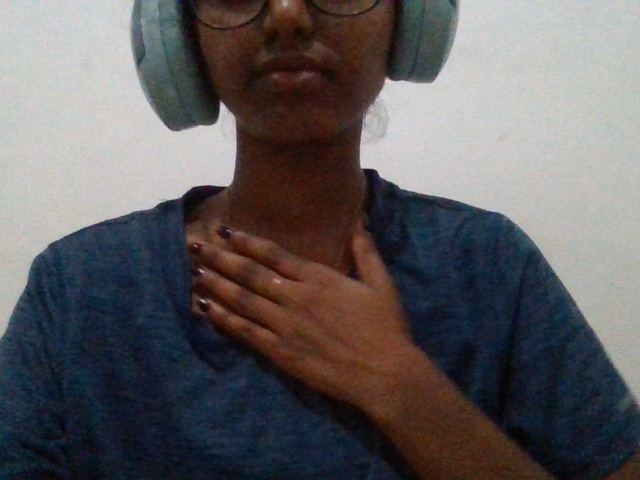Please: (158, 202, 465, 448)
